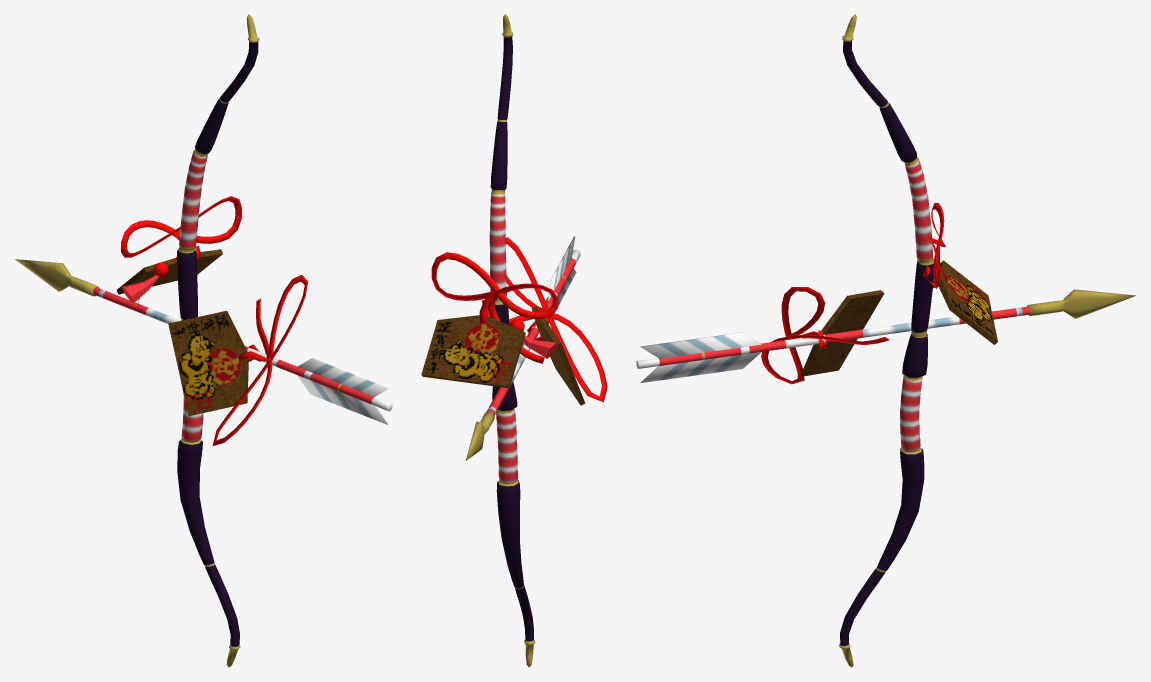
File: BowObject_3d_009.fbx
3 views of the same model, side by side, from view 1: azimuth 30°, elevation 25°; view 2: azimuth 150°, elevation 25°; view 3: azimuth 270°, elevation 25° (orthographic). The views are drawn at different scales.
Visible parts, largest first — view 1: Plane.001; view 2: Plane.001; view 3: Plane.001.
Boxes of the visible parts, x1,y1,x2,y2 form: Plane.001: (15,14,392,667); Plane.001: (421,14,607,667); Plane.001: (636,14,1135,667).
Size of the model in its own units: 1.21 by 5.5 by 3.75.
